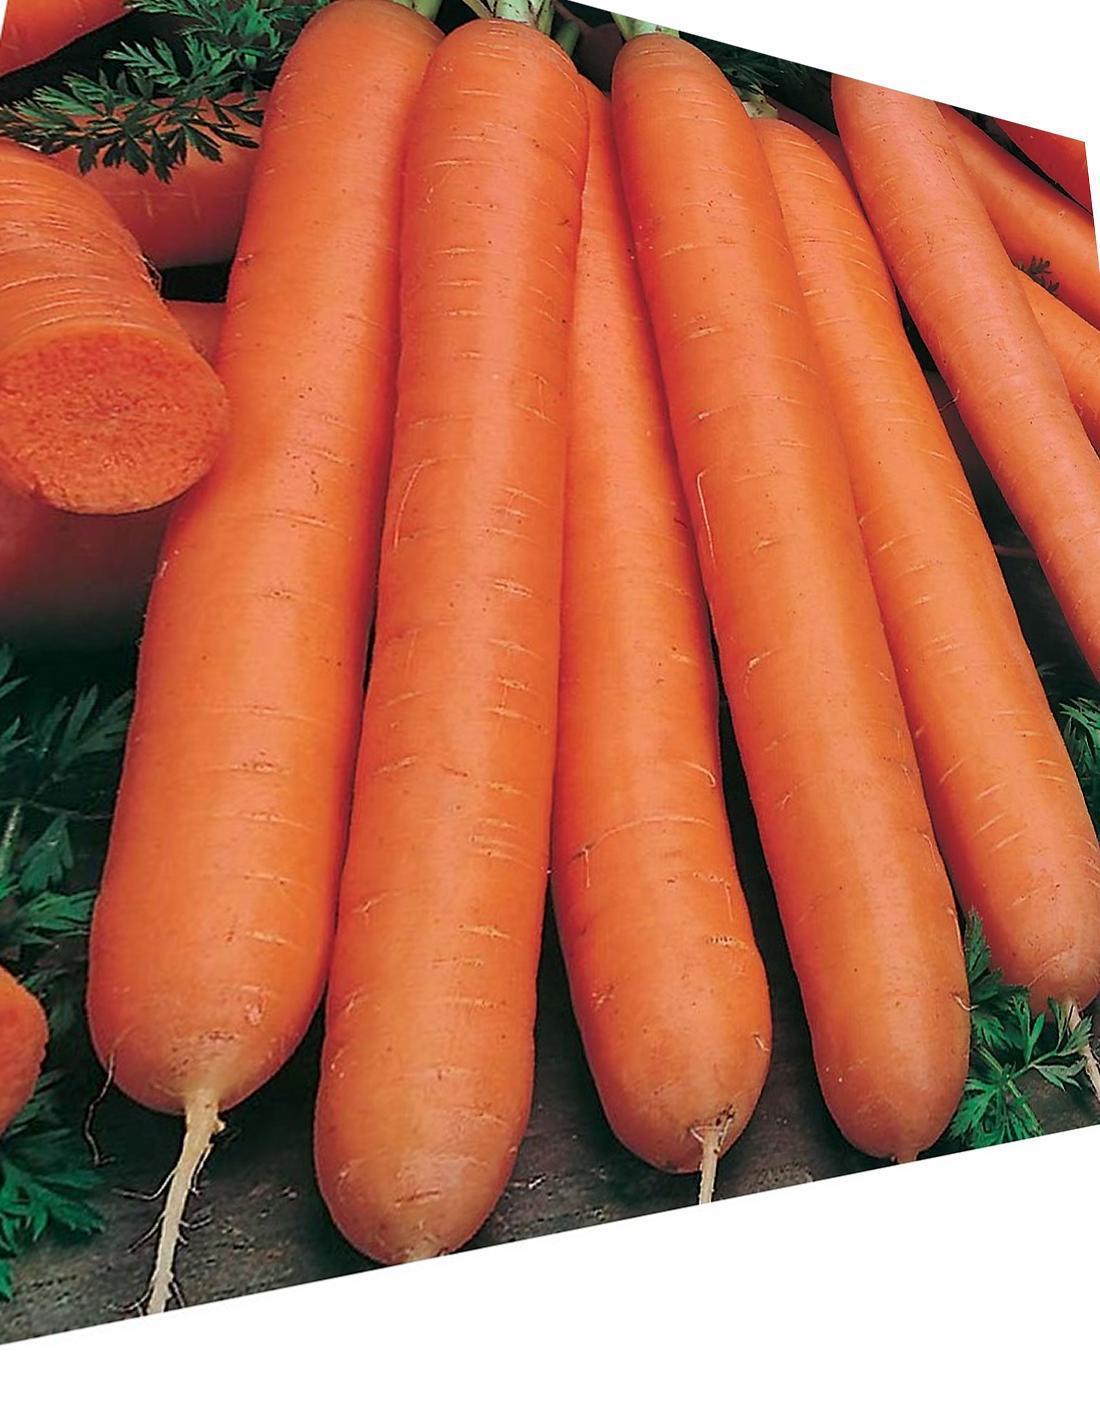carrot: (253, 0, 1094, 1163), (13, 40, 658, 1316), (0, 144, 224, 544)
